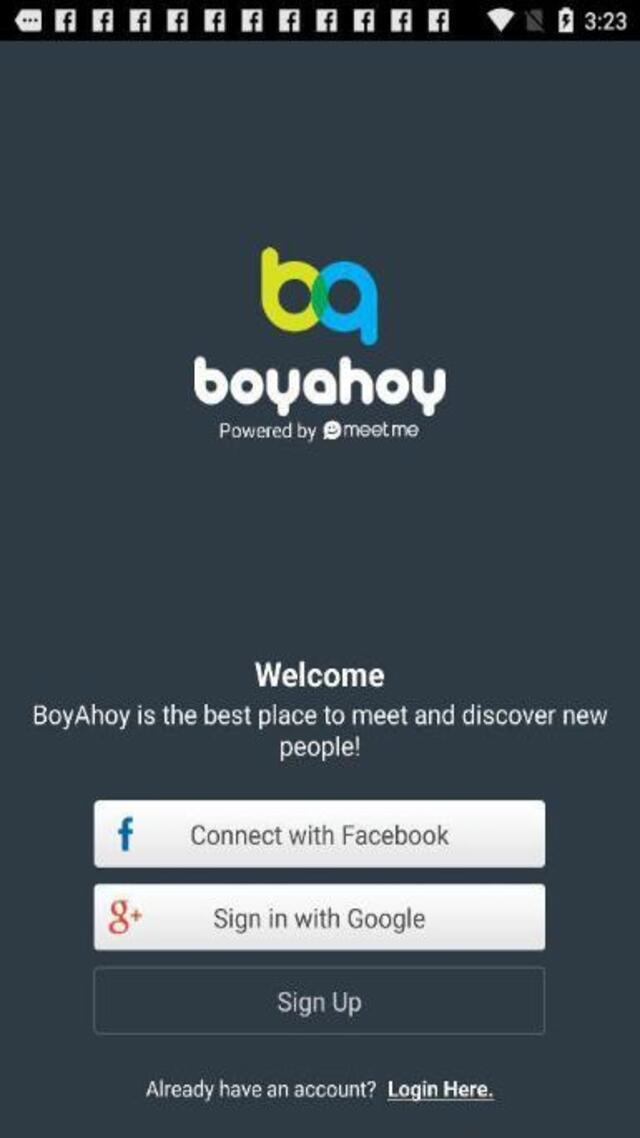Icon: (104, 896, 143, 935), (115, 811, 139, 853)
Image: (192, 243, 446, 442)
Text: (33, 702, 616, 734), (144, 1078, 493, 1102), (187, 824, 453, 849), (210, 905, 427, 934), (253, 660, 384, 688), (275, 989, 364, 1020), (273, 736, 368, 764)
TextButton: (93, 966, 545, 1034), (94, 800, 544, 868), (94, 883, 544, 948)
